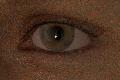eye: (41, 24, 73, 50)
